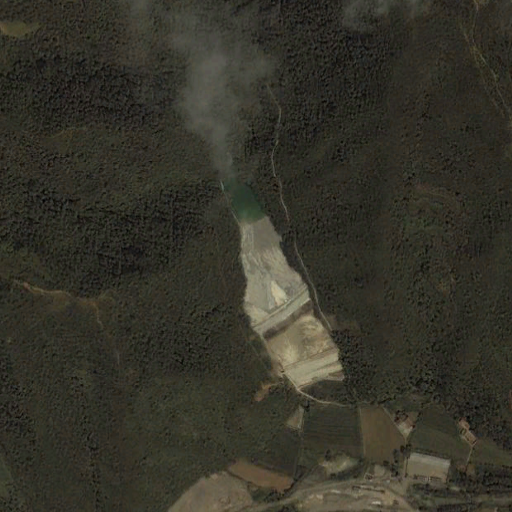tp: (218, 173, 348, 386)
